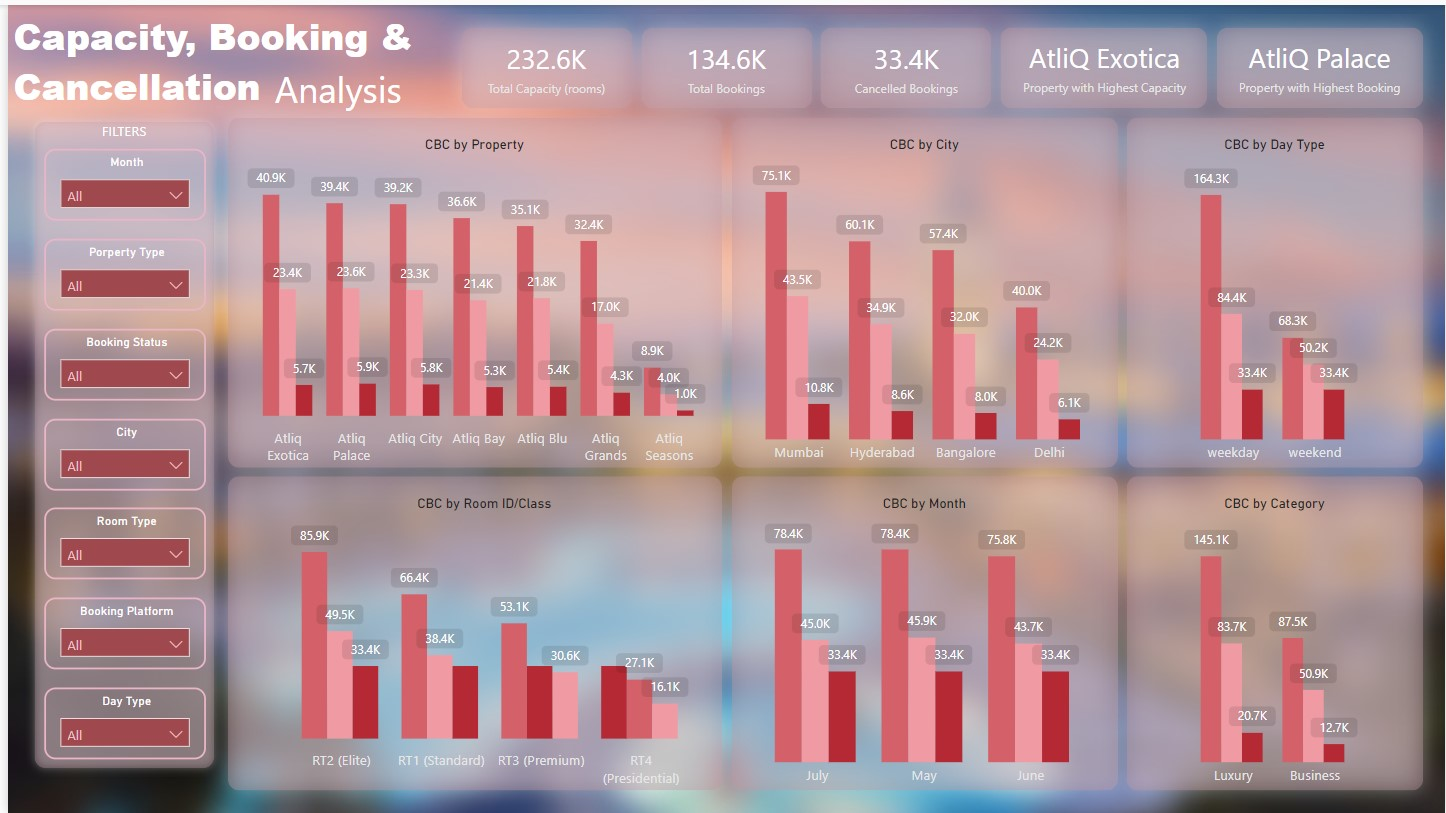

The page's visual inventory and layout, read from the dashboard file:
{"tool":"powerbi","page":{"name":"Capacity, Booking and Cancellation Comparison","canvas":[1280,720],"ordinal":3},"visuals":[{"type":"shape","title":"Filters","box":[1056,0,224,112],"z":0},{"type":"shape","title":"Filters","box":[864,0,224,112],"z":1000},{"type":"shape","title":"Filters","box":[704,0,192,112],"z":2000},{"type":"shape","title":"Filters","box":[544,0,192,112],"z":3000},{"type":"shape","title":"Filters","box":[384,0,192,112],"z":4000},{"type":"shape","title":"Filters","box":[176,80,480,352],"z":5000},{"type":"shape","title":"Filters","box":[16,96,176,592],"z":6000},{"type":"shape","title":"Filters","box":[976,80,304,352],"z":7000},{"type":"shape","title":"Filters","box":[624,80,384,352],"z":8000},{"type":"shape","title":"Filters","box":[176,400,480,320],"z":9000},{"type":"shape","title":"Filters","box":[624,400,384,320],"z":10000},{"type":"shape","title":"Filters","box":[976,400,304,320],"z":11000},{"type":"lineClusteredColumnComboChart","title":"CBC by Property","fields":{"Category":["agg_book.property_name"],"Y":["Sum(agg_book.capacity)","Sum(agg_book.successful_bookings)","bookings.Total Cancelled Bookings"]},"box":[192,112,448,304],"z":12000},{"type":"lineClusteredColumnComboChart","title":"CBC by City","fields":{"Category":["agg_book.city"],"Y":["Sum(agg_book.capacity)","Sum(agg_book.successful_bookings)","bookings.Total Cancelled Bookings"]},"box":[640,112,352,304],"z":13000},{"type":"slicer","title":"City","fields":{"Values":["agg_book.city"]},"box":[32,368,144,64],"z":14000},{"type":"slicer","title":"Porperty Type","fields":{"Values":["agg_book.property_name"]},"box":[32,208,144,64],"z":15000},{"type":"slicer","title":"Booking Platform","fields":{"Values":["bookings.booking_platform"]},"box":[32,528,144,64],"z":16000},{"type":"slicer","title":"Month","fields":{"Values":["agg_book.Month"]},"box":[32,128,144,64],"z":17000},{"type":"slicer","title":"Day Type","fields":{"Values":["agg_book.day_type"]},"box":[32,608,144,64],"z":18000},{"type":"slicer","title":"Booking Status","fields":{"Values":["bookings.booking_status"]},"box":[32,288,144,64],"z":19000},{"type":"slicer","title":"Room Type","fields":{"Values":["agg_book.room_id_class"]},"box":[32,448,144,64],"z":20000},{"type":"lineClusteredColumnComboChart","title":"CBC by Room ID/Class","fields":{"Category":["agg_book.room_id_class"],"Y":["Sum(agg_book.capacity)","Sum(agg_book.successful_bookings)","bookings.Total Cancelled Bookings"]},"box":[208,432,432,272],"z":21000},{"type":"lineClusteredColumnComboChart","title":"CBC by Category","fields":{"Category":["agg_book.category"],"Y":["Sum(agg_book.capacity)","Sum(agg_book.successful_bookings)","bookings.Total Cancelled Bookings"]},"box":[992,432,272,272],"z":22000},{"type":"lineClusteredColumnComboChart","title":"CBC by Month","fields":{"Y":["Sum(agg_book.capacity)","Sum(agg_book.successful_bookings)","bookings.Total Cancelled Bookings"],"Category":["agg_book.Month"]},"box":[640,432,352,272],"z":23000},{"type":"lineClusteredColumnComboChart","title":"CBC by Day Type","fields":{"Y":["Sum(agg_book.capacity)","Sum(agg_book.successful_bookings)","bookings.Total Cancelled Bookings"],"Category":["agg_book.day_type"]},"box":[992,112,272,304],"z":24000},{"type":"textbox","box":[880,16,192,80],"z":25000},{"type":"card","fields":{"Values":["Sum(agg_book.capacity)"]},"box":[400,16,160,80],"z":26000},{"type":"card","fields":{"Values":["bookings.Total Cancelled Bookings"]},"box":[720,16,160,80],"z":27000},{"type":"card","fields":{"Values":["bookings.Total Bookings"]},"box":[560,16,160,80],"z":28000},{"type":"textbox","box":[1072,16,192,80],"z":29000},{"type":"textbox","box":[0,0,400,112],"z":30000},{"type":"textbox","box":[224,48,160,64],"z":31000}]}

Visuals, with their boxes in screenshot pixels (x1, y1, x2, y2), scaled from the page's 1280x720 canvas onto the 1446x813 screenshot:
"Filters" shape: (x1=1193, y1=0, x2=1445, y2=126)
"Filters" shape: (x1=976, y1=0, x2=1229, y2=126)
"Filters" shape: (x1=795, y1=0, x2=1012, y2=126)
"Filters" shape: (x1=615, y1=0, x2=831, y2=126)
"Filters" shape: (x1=434, y1=0, x2=651, y2=126)
"Filters" shape: (x1=199, y1=90, x2=741, y2=488)
"Filters" shape: (x1=18, y1=108, x2=217, y2=777)
"Filters" shape: (x1=1103, y1=90, x2=1445, y2=488)
"Filters" shape: (x1=705, y1=90, x2=1139, y2=488)
"Filters" shape: (x1=199, y1=452, x2=741, y2=812)
"Filters" shape: (x1=705, y1=452, x2=1139, y2=812)
"Filters" shape: (x1=1103, y1=452, x2=1445, y2=812)
"CBC by Property" lineClusteredColumnComboChart: (x1=217, y1=126, x2=723, y2=470)
"CBC by City" lineClusteredColumnComboChart: (x1=723, y1=126, x2=1121, y2=470)
"City" slicer: (x1=36, y1=416, x2=199, y2=488)
"Porperty Type" slicer: (x1=36, y1=235, x2=199, y2=307)
"Booking Platform" slicer: (x1=36, y1=596, x2=199, y2=668)
"Month" slicer: (x1=36, y1=145, x2=199, y2=217)
"Day Type" slicer: (x1=36, y1=687, x2=199, y2=759)
"Booking Status" slicer: (x1=36, y1=325, x2=199, y2=397)
"Room Type" slicer: (x1=36, y1=506, x2=199, y2=578)
"CBC by Room ID/Class" lineClusteredColumnComboChart: (x1=235, y1=488, x2=723, y2=795)
"CBC by Category" lineClusteredColumnComboChart: (x1=1121, y1=488, x2=1428, y2=795)
"CBC by Month" lineClusteredColumnComboChart: (x1=723, y1=488, x2=1121, y2=795)
"CBC by Day Type" lineClusteredColumnComboChart: (x1=1121, y1=126, x2=1428, y2=470)
textbox: (x1=994, y1=18, x2=1211, y2=108)
card - Sum(agg_book.capacity): (x1=452, y1=18, x2=633, y2=108)
card - bookings.Total Cancelled Bookings: (x1=813, y1=18, x2=994, y2=108)
card - bookings.Total Bookings: (x1=633, y1=18, x2=813, y2=108)
textbox: (x1=1211, y1=18, x2=1428, y2=108)
textbox: (x1=0, y1=0, x2=452, y2=126)
textbox: (x1=253, y1=54, x2=434, y2=126)
